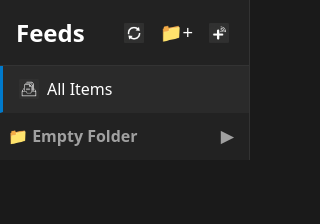
Test case: Sidebar Additional coverage › renders empty folder
Step 1. Click the text "📁 Empty Folder" → {"x": 73, "y": 136}, box [8, 125, 138, 147]
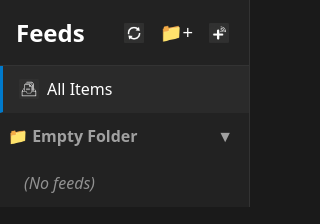
Now the list item "(No feeds)" is shown, box [24, 172, 95, 194]
